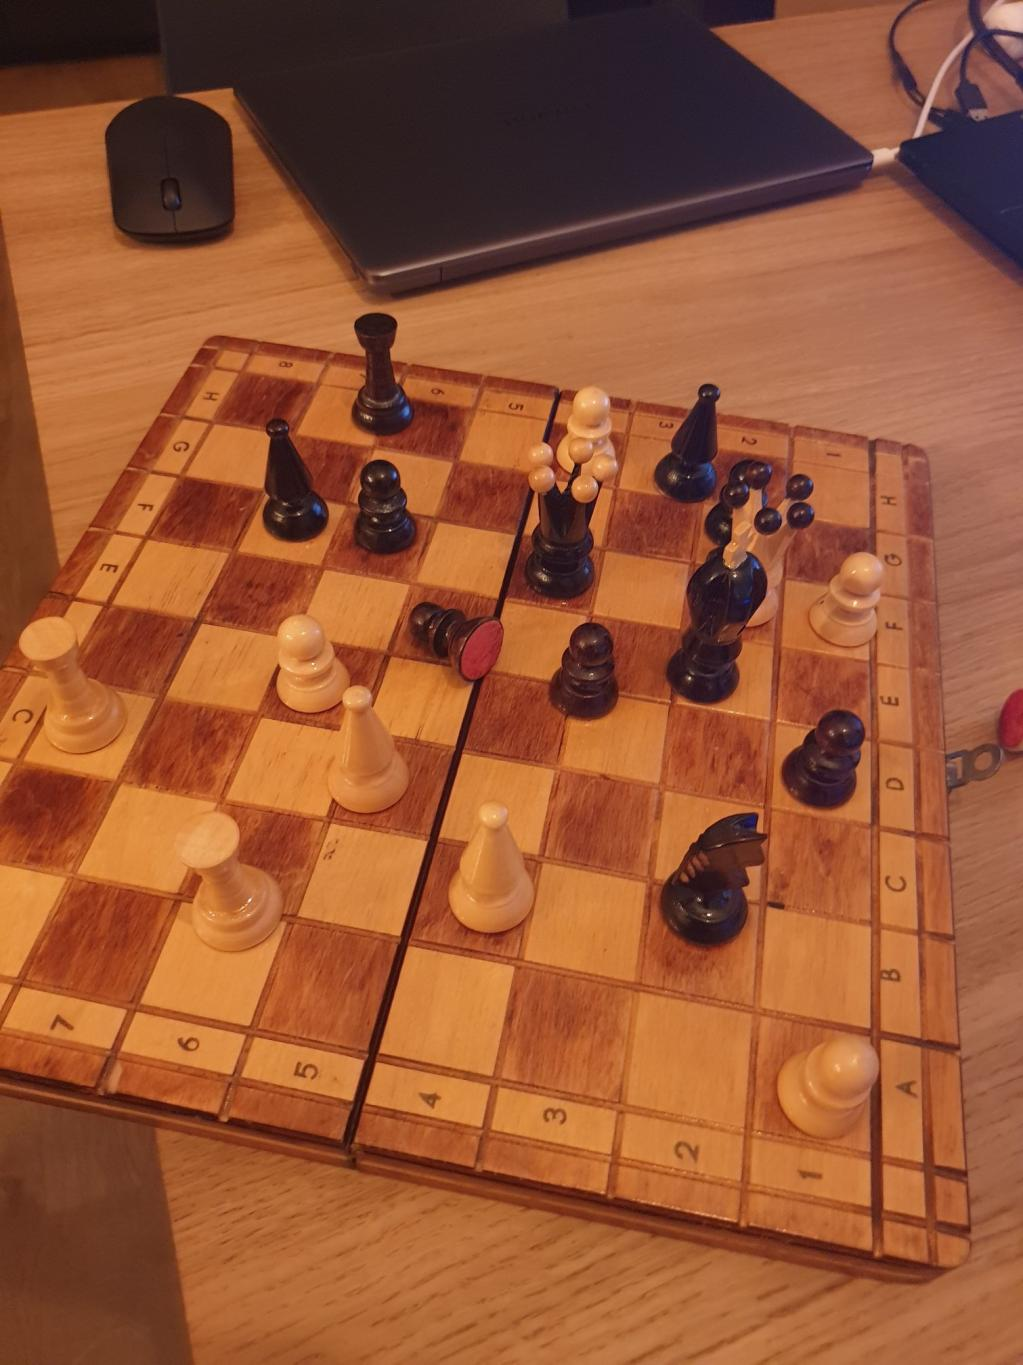bbishop: (253, 414, 332, 543), (652, 382, 722, 499)
bking: (663, 526, 768, 707)
bknight: (654, 800, 770, 954)
bpawn: (775, 702, 873, 813), (402, 597, 506, 682), (550, 616, 622, 721), (352, 462, 416, 555)
bqueen: (525, 439, 620, 601)
brook: (347, 308, 416, 432)
wbishop: (440, 791, 537, 939), (325, 682, 409, 816)
wpawn: (770, 1028, 881, 1147), (268, 606, 354, 721), (806, 546, 887, 649), (558, 384, 614, 489)
wqueen: (727, 463, 815, 632)
wrook: (17, 613, 136, 757), (175, 809, 286, 954)
